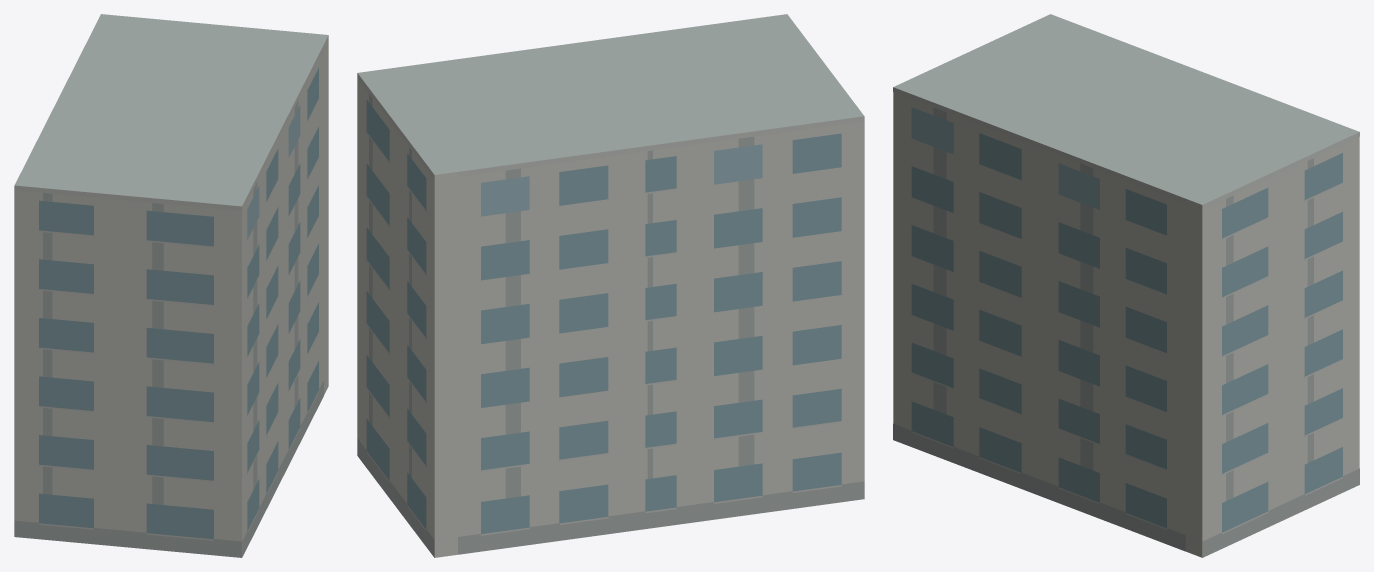
The model's file is survey-upis-32964513.glb.
3 views of the same model, side by side, from view 1: azimuth 30°, elevation 25°; view 2: azimuth 150°, elevation 25°; view 3: azimuth 270°, elevation 25° (orthographic). The views are drawn at different scales.
Visible parts, largest first — view 1: survey-upis-32964513.tmp; view 2: survey-upis-32964513.tmp; view 3: survey-upis-32964513.tmp.
Part boxes in pixels (<box>): survey-upis-32964513.tmp: <box>14,14,328,557</box>; survey-upis-32964513.tmp: <box>357,14,864,557</box>; survey-upis-32964513.tmp: <box>893,14,1359,557</box>.
Size of the model in its own units: 20.44 by 17.6 by 21.1.
